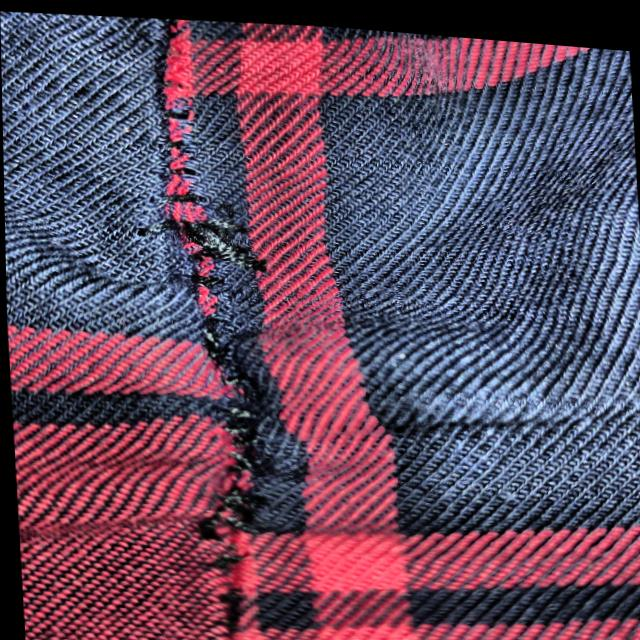Stitch: (126, 75, 294, 631)
